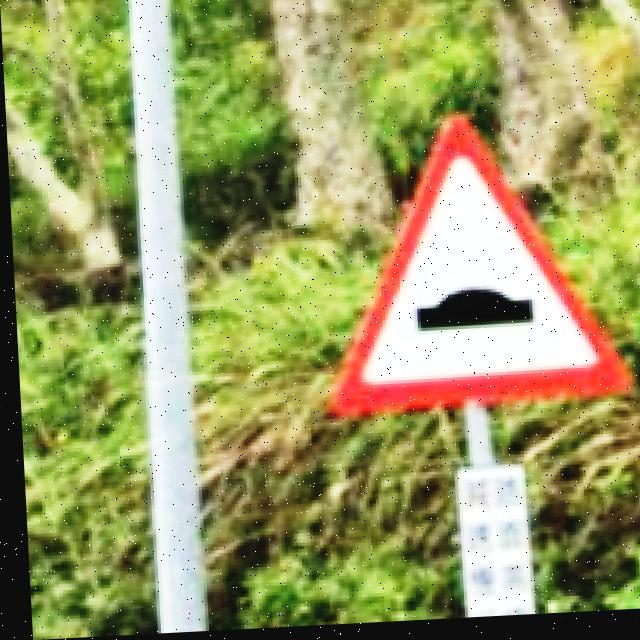hump: (329, 124, 625, 415)
